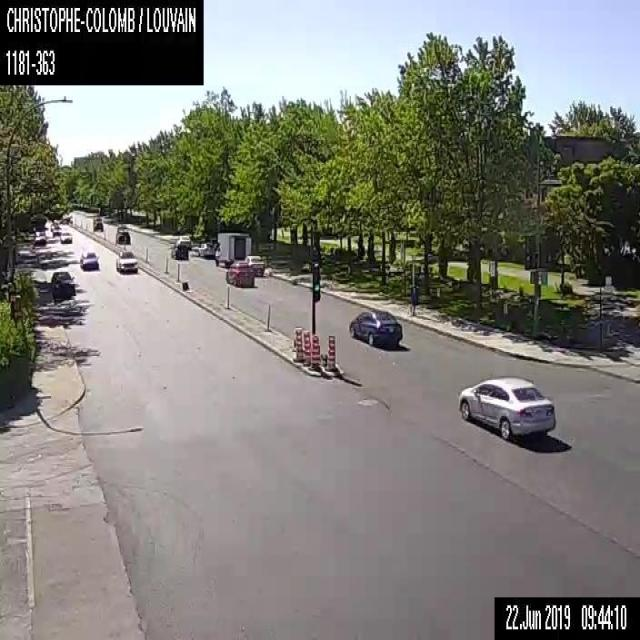construction: (324, 334, 337, 371), (308, 334, 320, 370), (293, 325, 302, 361), (302, 329, 311, 365)
vehicle: (458, 374, 556, 440), (348, 307, 402, 345), (214, 232, 250, 266), (225, 260, 254, 286), (50, 270, 75, 296), (115, 249, 137, 273), (242, 254, 264, 276), (79, 250, 98, 270), (171, 243, 188, 259), (198, 241, 214, 257), (115, 228, 130, 243), (175, 234, 190, 248), (60, 230, 72, 242), (93, 217, 103, 230), (34, 230, 44, 242), (52, 224, 61, 236), (50, 220, 58, 231)
